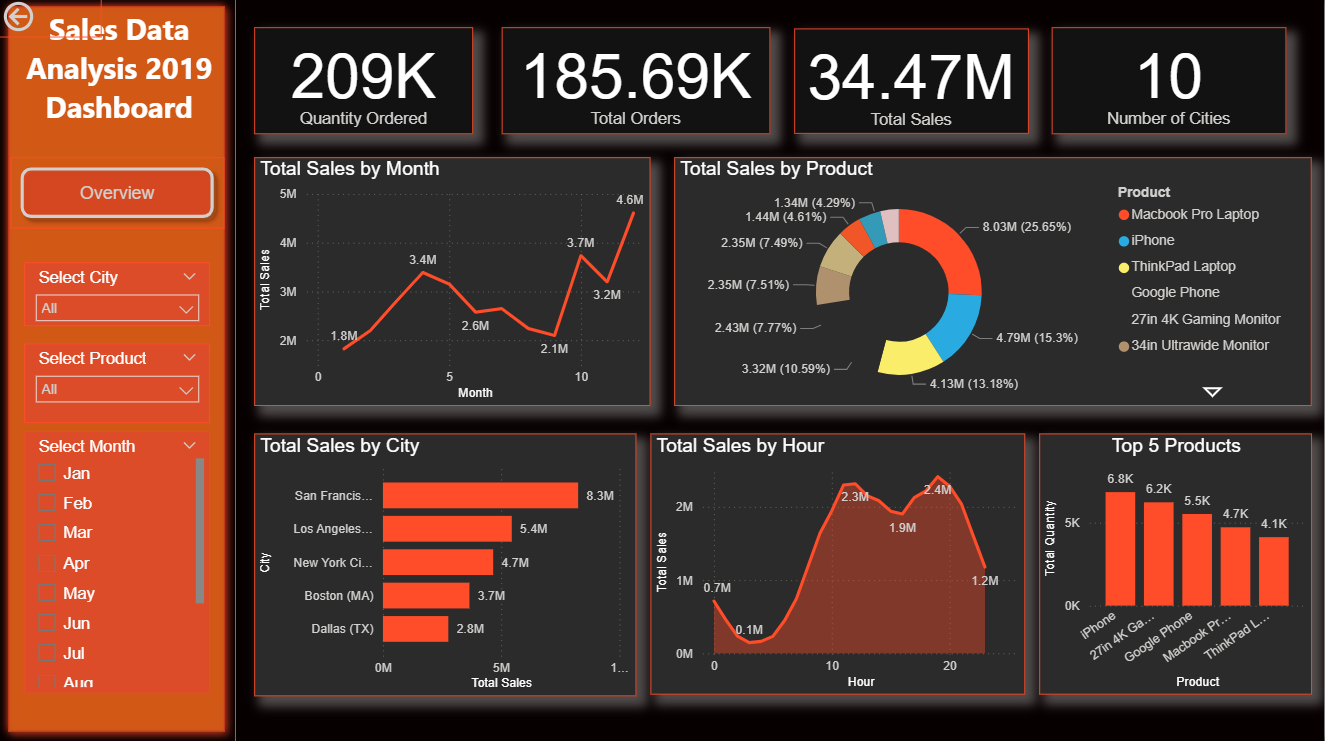

This screenshot's page, from the dashboard's own definition file:
{"tool":"powerbi","page":{"name":"Page 1","canvas":[1280,720],"ordinal":0},"visuals":[{"type":"card","fields":{"Values":["CountNonNull(cleaned_sales_data.Order ID)"]},"box":[485.8,30.2,259.3,102.9],"z":0},{"type":"card","fields":{"Values":["Sum(cleaned_sales_data.Total Sales)"]},"box":[768.4,31.6,226.4,101.5],"z":1000},{"type":"card","fields":{"Values":["Sum(cleaned_sales_data.Quantity Ordered)"]},"box":[247,30.2,211.3,102.9],"z":2000},{"type":"shape","box":[0,0,229.2,720.2],"z":3000},{"type":"card","fields":{"Values":["Count(cleaned_sales_data.City)"]},"box":[1016.8,30.2,226.4,102.9],"z":4000},{"type":"lineChart","fields":{"Category":["cleaned_sales_data.Month"],"Y":["Sum(cleaned_sales_data.Total Sales)"]},"box":[247.3,155.6,382.4,240.1],"z":5000},{"type":"clusteredBarChart","title":"Total Sales by City","fields":{"Category":["cleaned_sales_data.City"],"Y":["Sum(cleaned_sales_data.Total Sales)"]},"box":[247,422.6,369.1,253.9],"z":6000},{"type":"donutChart","fields":{"Category":["cleaned_sales_data.Product"],"Y":["Sum(cleaned_sales_data.Total Sales)"]},"box":[652.7,155.6,615.3,240.1],"z":7000},{"type":"areaChart","fields":{"Y":["Sum(cleaned_sales_data.Total Sales)"],"Category":["cleaned_sales_data.Hour"]},"box":[629.8,422.3,361.9,252.1],"z":8000},{"type":"columnChart","title":"Top 5 Products","fields":{"Category":["cleaned_sales_data.Product"],"Y":["CountNonNull(cleaned_sales_data.Order ID)"]},"box":[1005,422.3,263,252.1],"z":9000},{"type":"actionButton","box":[12.1,155.6,206.3,68.8],"z":10000},{"type":"slicer","fields":{"Values":["cleaned_sales_data.City"]},"box":[25,257.4,179.5,61.2],"z":11000},{"type":"slicer","fields":{"Values":["cleaned_sales_data.Product"]},"box":[25,335.3,179.5,76.5],"z":12000},{"type":"slicer","fields":{"Values":["cleaned_sales_data.Month Name"]},"box":[25,420.2,179.5,253.2],"z":13000},{"type":"actionButton","box":[0,0,100,40],"z":14000}]}

Visuals, with their boxes in screenshot pixels (x1, y1, x2, y2), scaled from the page's 1280x720 canvas onto the 1325x741 screenshot:
card - CountNonNull(cleaned_sales_data.Order ID): <bbox>503, 31, 771, 137</bbox>
card - Sum(cleaned_sales_data.Total Sales): <bbox>795, 33, 1030, 137</bbox>
card - Sum(cleaned_sales_data.Quantity Ordered): <bbox>256, 31, 474, 137</bbox>
shape: <bbox>0, 0, 237, 740</bbox>
card - Count(cleaned_sales_data.City): <bbox>1053, 31, 1287, 137</bbox>
lineChart - cleaned_sales_data.Month x Sum(cleaned_sales_data.Total Sales): <bbox>256, 160, 652, 407</bbox>
"Total Sales by City" clusteredBarChart: <bbox>256, 435, 638, 696</bbox>
donutChart - cleaned_sales_data.Product x Sum(cleaned_sales_data.Total Sales): <bbox>676, 160, 1313, 407</bbox>
areaChart - Sum(cleaned_sales_data.Total Sales) x cleaned_sales_data.Hour: <bbox>652, 435, 1027, 694</bbox>
"Top 5 Products" columnChart: <bbox>1040, 435, 1313, 694</bbox>
actionButton: <bbox>13, 160, 226, 231</bbox>
slicer - cleaned_sales_data.City: <bbox>26, 265, 212, 328</bbox>
slicer - cleaned_sales_data.Product: <bbox>26, 345, 212, 424</bbox>
slicer - cleaned_sales_data.Month Name: <bbox>26, 432, 212, 693</bbox>
actionButton: <bbox>0, 0, 104, 41</bbox>
